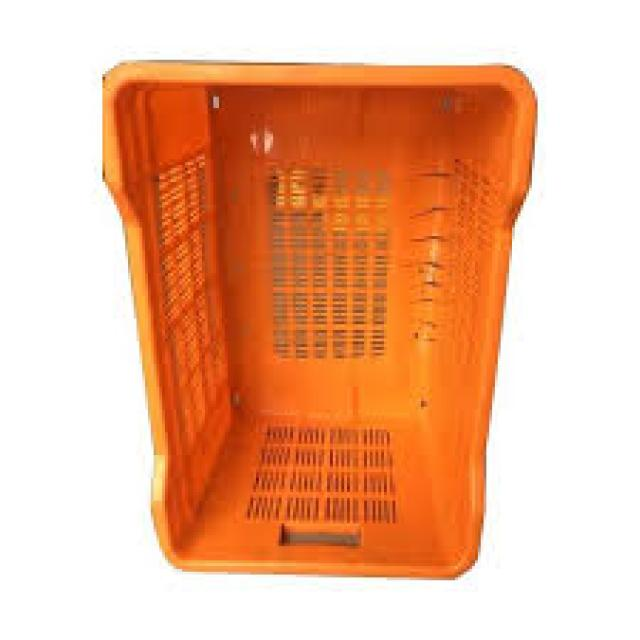basket: (102, 62, 538, 579)
